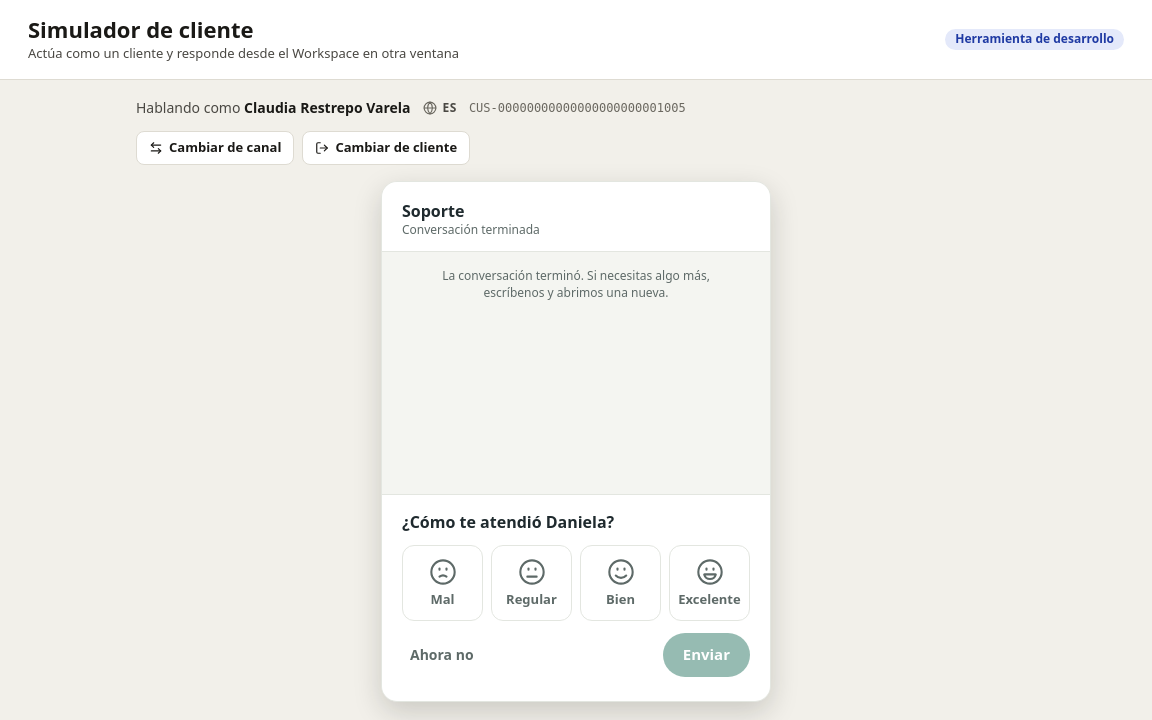
Test: satisfaction survey (slice 7) › keeps the same key when a failed send is retried
Expected: the form "¿Cómo te atendió Daniela?" is shown, [382, 494, 770, 701]
Click the radio button labelled "Regular" at (532, 583), box [491, 545, 572, 621]
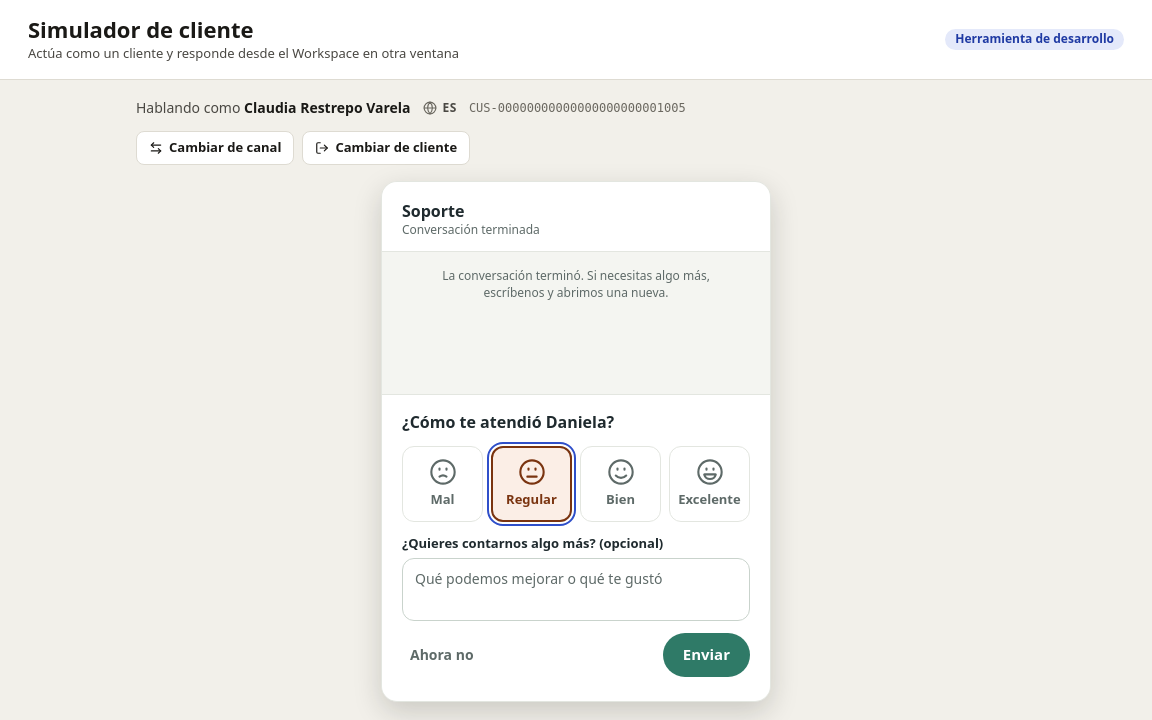
Click the button "Enviar" at (706, 655), box [663, 633, 750, 677]
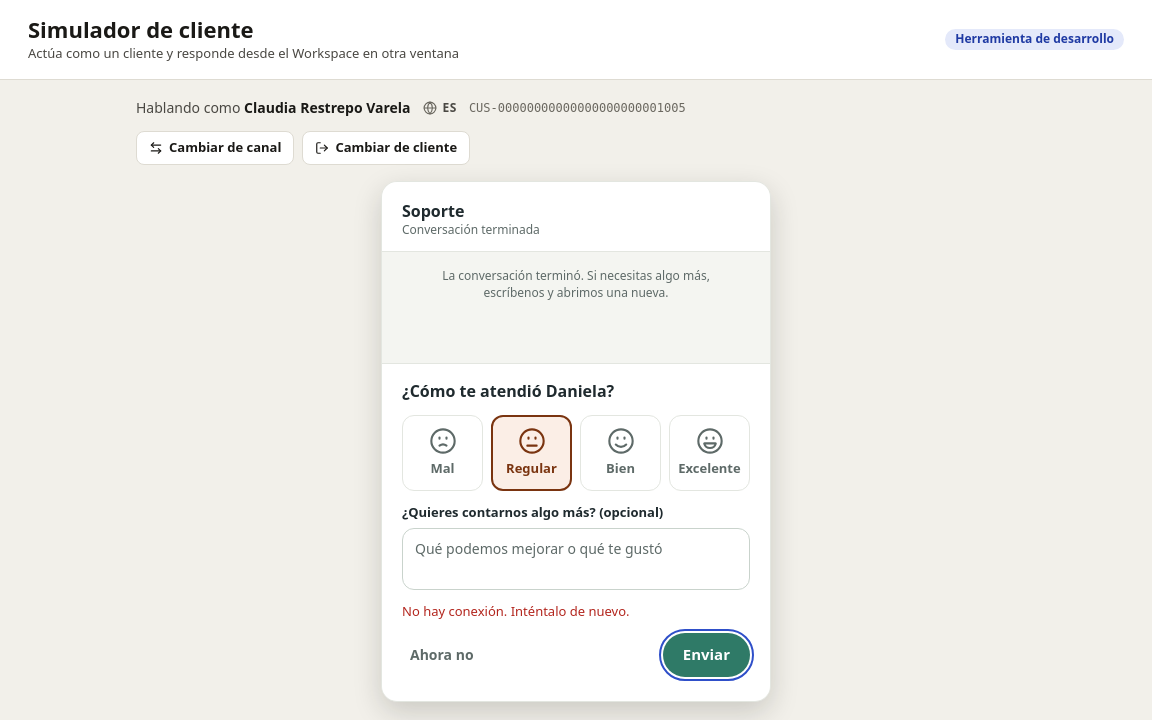
Now the message reads "No hay conexión. Inténtalo de nuevo.", box [402, 602, 630, 620]
Click the button "Enviar" at (706, 655), box [663, 633, 750, 677]
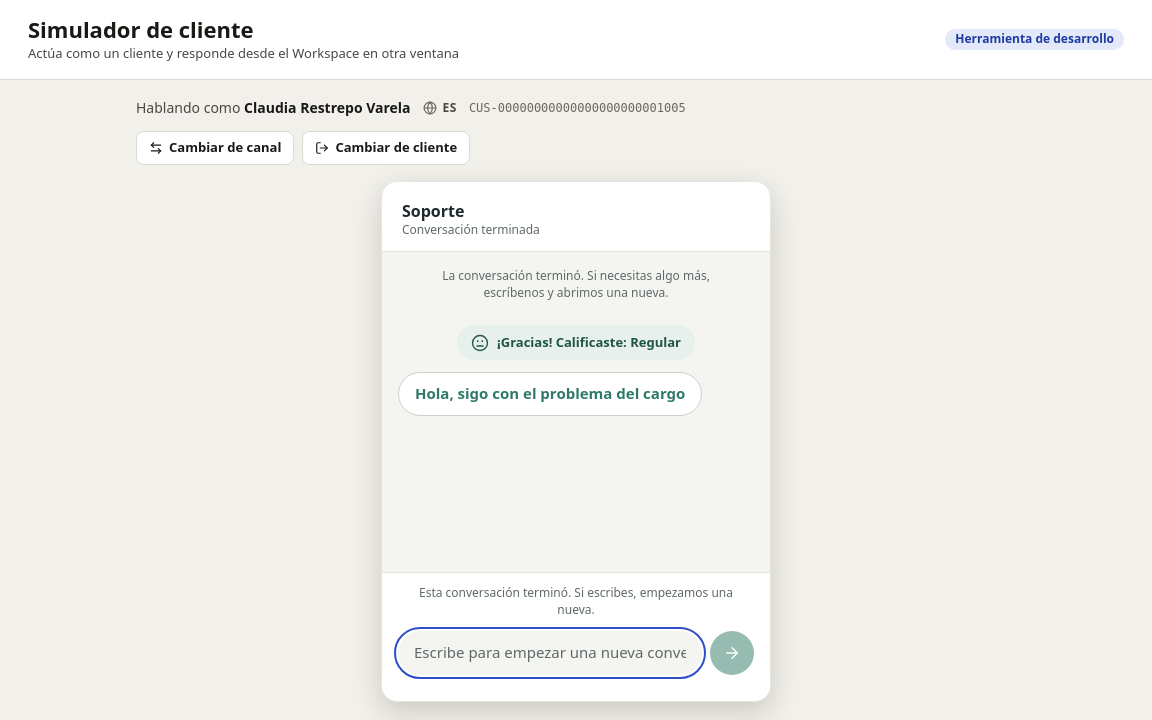
Now the text "¡Gracias! Calificaste: Regular" is shown, box [457, 325, 695, 360]
